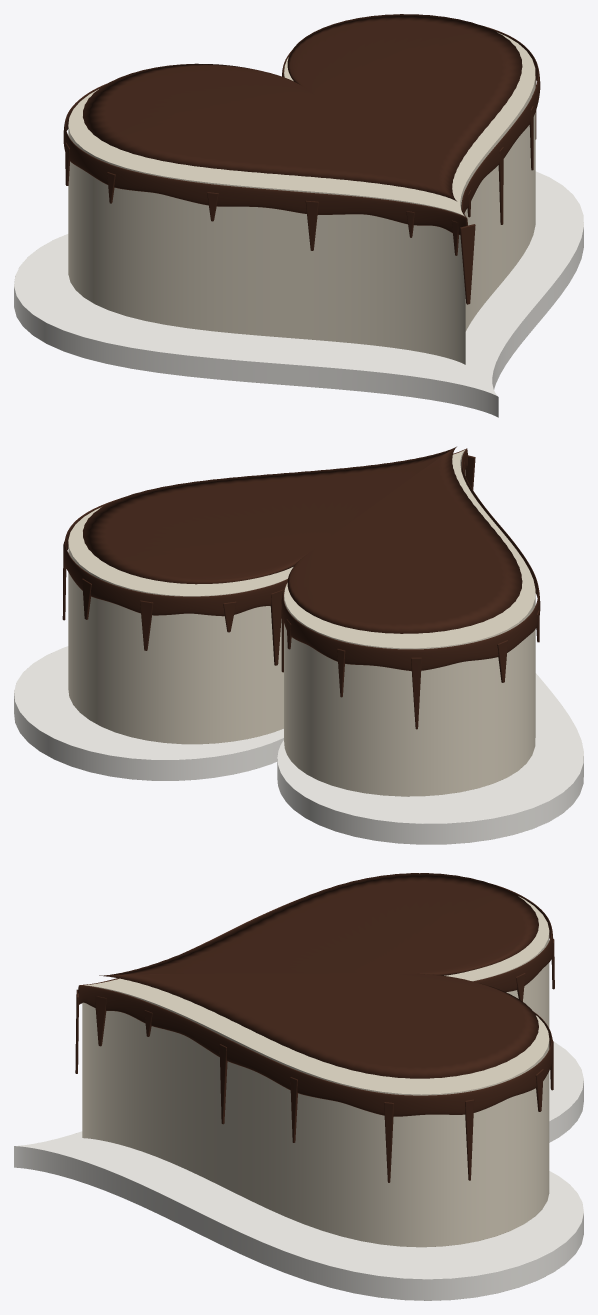
The model's file is heart_1_tier.glb.
The picture shows the model from 3 angles, top to bottom: view 1: azimuth 30°, elevation 25°; view 2: azimuth 150°, elevation 25°; view 3: azimuth 270°, elevation 25°; orthographic projection. The views are drawn at different scales.
Parts seen in each view (by area): view 1: heart_1_L1_body, heart_1_L1_copied_circle_style_glossy_top_cap, heart_1_board, heart_1_L1_copied_circle_style_heart_full_perimeter_chocolat, heart_1_L1_copied_circle_style_heart_tapered_curtain_drip_11; view 2: heart_1_L1_body, heart_1_L1_copied_circle_style_glossy_top_cap, heart_1_board, heart_1_L1_copied_circle_style_heart_full_perimeter_chocolat, heart_1_L1_copied_circle_style_heart_tapered_curtain_drip_01, heart_1_L1_copied_circle_style_heart_tapered_curtain_drip_18; view 3: heart_1_L1_body, heart_1_L1_copied_circle_style_glossy_top_cap, heart_1_board, heart_1_L1_copied_circle_style_heart_full_perimeter_chocolat, heart_1_L1_copied_circle_style_heart_tapered_curtain_drip_06.
Part boxes in pixels (x1,y1,x2,y2): heart_1_L1_body: (68, 32, 535, 364); heart_1_L1_copied_circle_style_glossy_top_cap: (83, 14, 522, 201); heart_1_board: (14, 171, 583, 417); heart_1_L1_copied_circle_style_heart_full_perimeter_chocolat: (63, 26, 540, 234); heart_1_L1_copied_circle_style_heart_tapered_curtain_drip_11: (460, 224, 475, 304); heart_1_L1_body: (68, 449, 535, 796); heart_1_L1_copied_circle_style_glossy_top_cap: (83, 446, 522, 633); heart_1_board: (14, 646, 583, 844); heart_1_L1_copied_circle_style_heart_full_perimeter_chocolat: (63, 448, 540, 670); heart_1_L1_copied_circle_style_heart_tapered_curtain_drip_01: (270, 589, 283, 665); heart_1_L1_copied_circle_style_heart_tapered_curtain_drip_18: (411, 657, 421, 729); heart_1_L1_body: (82, 896, 549, 1247); heart_1_L1_copied_circle_style_glossy_top_cap: (99, 873, 538, 1078); heart_1_board: (14, 1041, 583, 1300); heart_1_L1_copied_circle_style_heart_full_perimeter_chocolat: (78, 883, 553, 1116); heart_1_L1_copied_circle_style_heart_tapered_curtain_drip_06: (384, 1102, 393, 1182).
Size of the model in its own units: 5.79 by 1.97 by 5.24.
